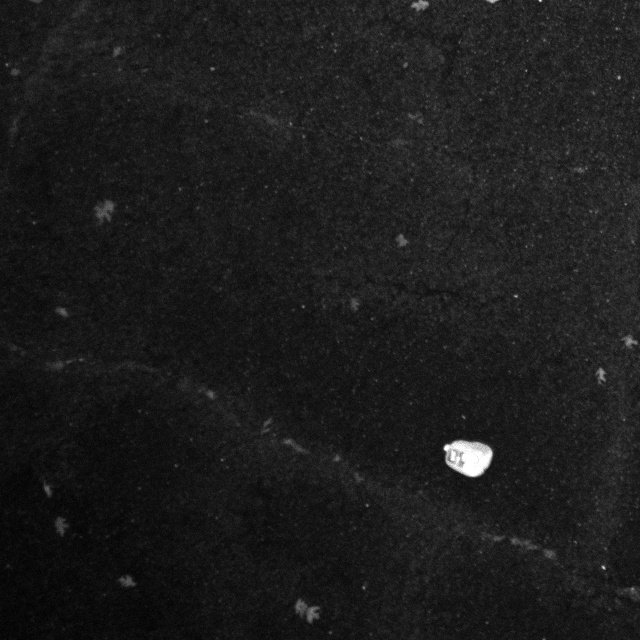can: (433, 436, 497, 484)
